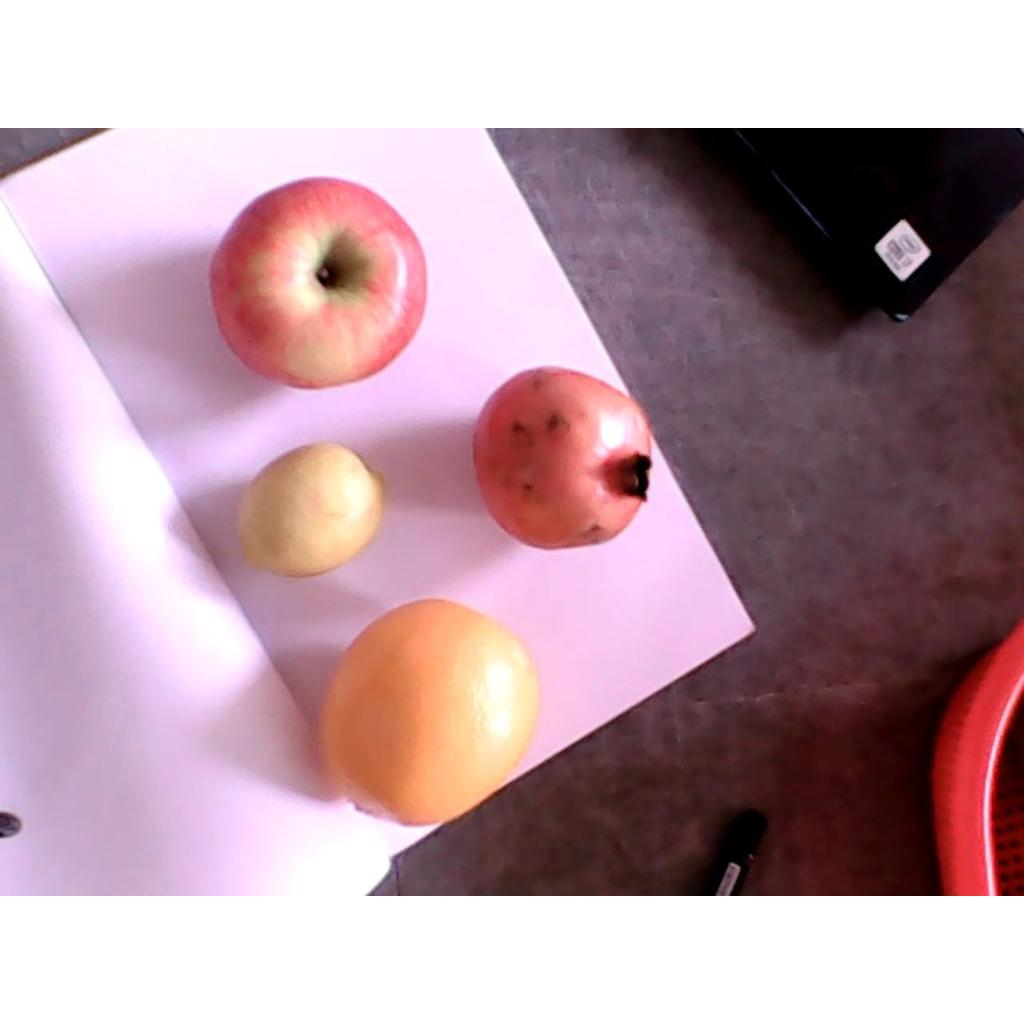apple: (210, 177, 429, 391)
lemon: (234, 443, 384, 580)
orange: (314, 596, 540, 828)
pomegranate: (468, 366, 652, 552)
